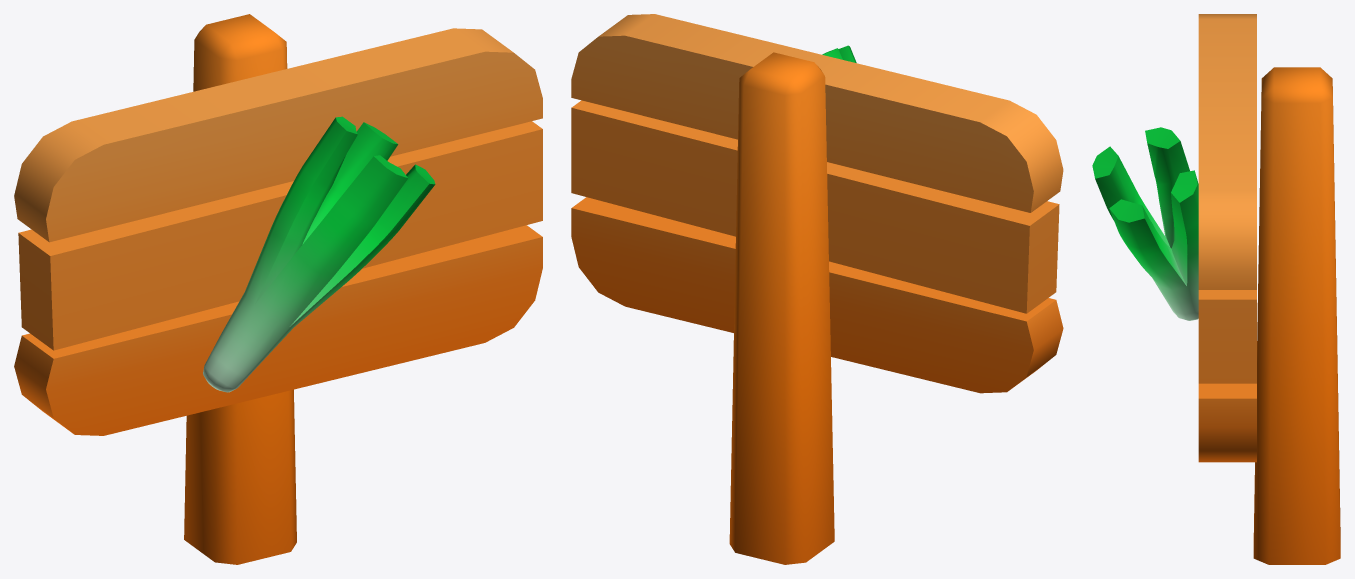
File: Farm_Crop_Sign_Leek_01.fbx
The picture shows the model from 3 angles, left to right: view 1: azimuth 30°, elevation 25°; view 2: azimuth 150°, elevation 25°; view 3: azimuth 270°, elevation 25°; orthographic projection. The views are drawn at different scales.
Visible parts, largest first — view 1: Farm_Crop_Sign_Leek_01; view 2: Farm_Crop_Sign_Leek_01; view 3: Farm_Crop_Sign_Leek_01.
Boxes of the visible parts, x1,y1,x2,y2 form: Farm_Crop_Sign_Leek_01: (14, 14, 542, 564); Farm_Crop_Sign_Leek_01: (571, 14, 1063, 564); Farm_Crop_Sign_Leek_01: (1092, 14, 1340, 564).
Size of the model in its own units: 90.11 by 88.8 by 42.55.
